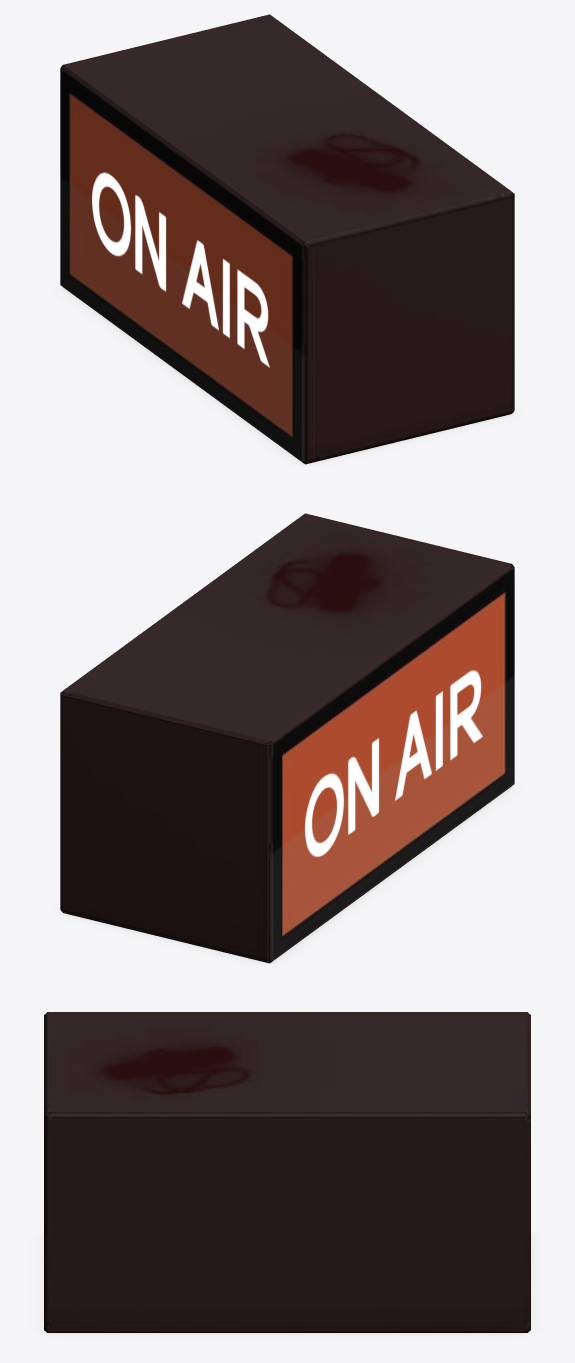
File: right-double-on-air-orange-cube.glb
3 renders of one model, top to bottom at view 1: azimuth 30°, elevation 25°; view 2: azimuth 150°, elevation 25°; view 3: azimuth 270°, elevation 25°, orthographic.
Visible parts, largest first — view 1: Right Double On Air Orange Cube, text, Shadow; view 2: Right Double On Air Orange Cube, text, Shadow; view 3: Right Double On Air Orange Cube, Shadow.
Part boxes in pixels (x1,y1,x2,y2): Right Double On Air Orange Cube: [60, 14, 514, 464]; text: [92, 172, 269, 367]; Shadow: [59, 286, 516, 466]; Right Double On Air Orange Cube: [60, 513, 514, 963]; text: [305, 670, 482, 856]; Shadow: [59, 785, 515, 965]; Right Double On Air Orange Cube: [44, 1012, 530, 1332]; Shadow: [37, 1232, 537, 1336].
Size of the model in its own units: 1.28 by 1 by 2.24.
3 materials, 3 textured.
